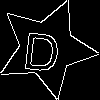D: (21, 23, 63, 72)
